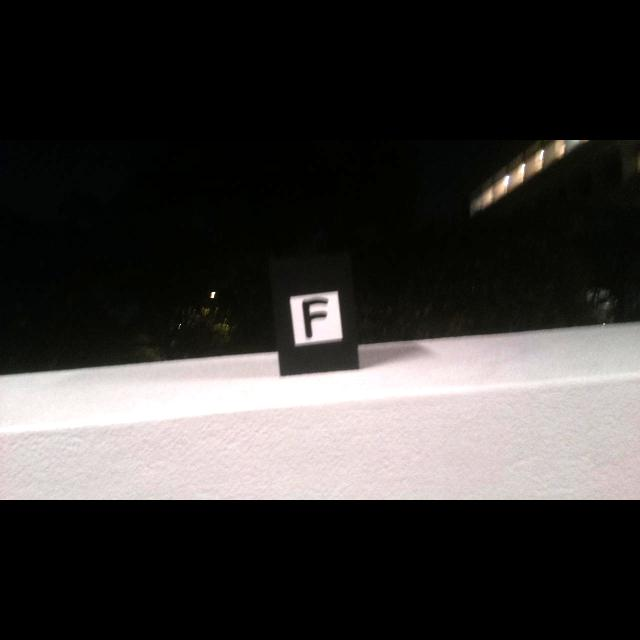F: (303, 297, 329, 337)
